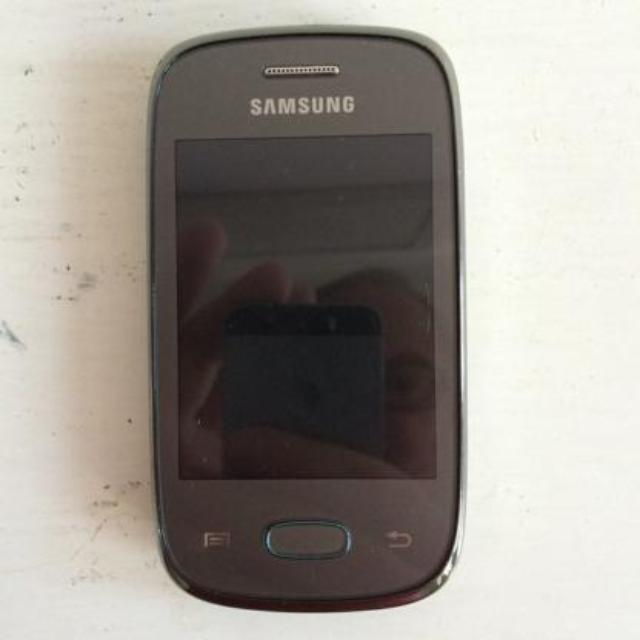Smartphone: (128, 27, 494, 616)
